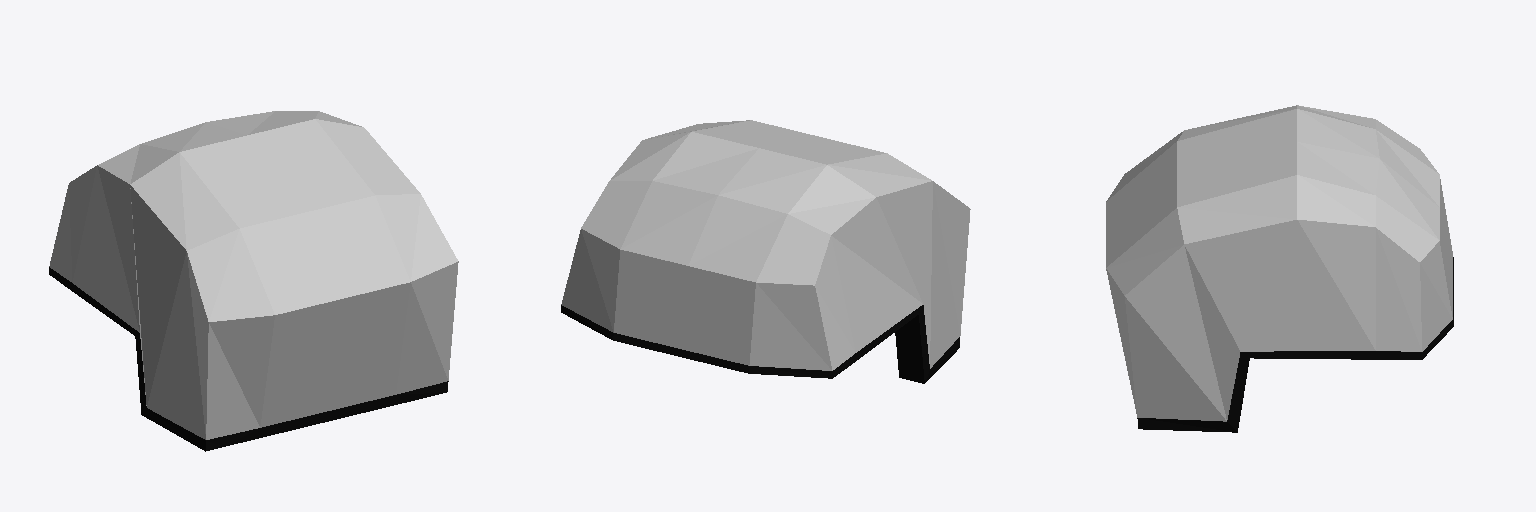
The model's file is army_helm.obj.
3 views of the same model, side by side, from view 1: azimuth 30°, elevation 25°; view 2: azimuth 150°, elevation 25°; view 3: azimuth 270°, elevation 25° (orthographic).
Visible parts, largest first — view 1: Cube_Cube.001; view 2: Cube_Cube.001; view 3: Cube_Cube.001.
Part boxes in pixels (left/top/right/bottom): Cube_Cube.001: left=49, top=111, right=458, bottom=451; Cube_Cube.001: left=561, top=120, right=970, bottom=383; Cube_Cube.001: left=1106, top=105, right=1453, bottom=432.
Bounding box in the file's own units: 0.5202 × 0.4183 × 0.5778.